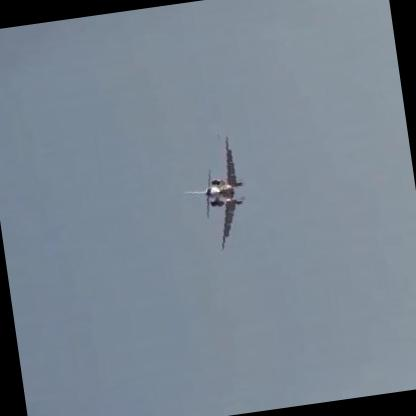plane: (171, 127, 257, 256)
